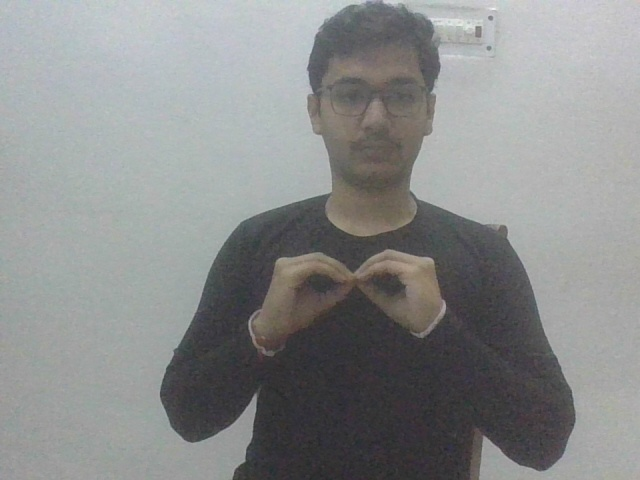B: (253, 245, 455, 335)
